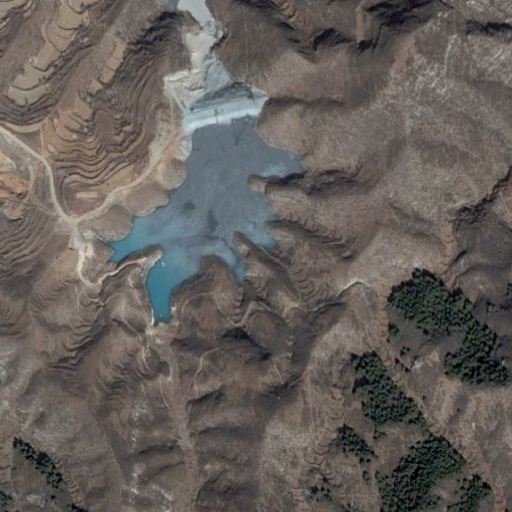tp: (108, 86, 308, 324)
